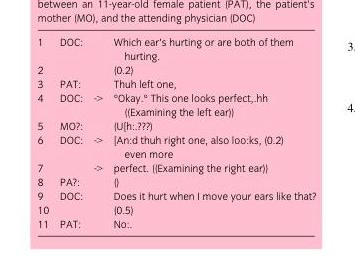table: (36, 36, 315, 229)
table column: (107, 36, 315, 229), (53, 36, 87, 229), (87, 36, 107, 229), (36, 36, 53, 229)
table row: (36, 90, 315, 119), (36, 132, 315, 160), (36, 36, 315, 63), (36, 160, 315, 175), (36, 63, 315, 77), (36, 175, 315, 189), (36, 189, 315, 203), (36, 203, 315, 217), (36, 77, 315, 90), (36, 119, 315, 132), (36, 217, 315, 229)
